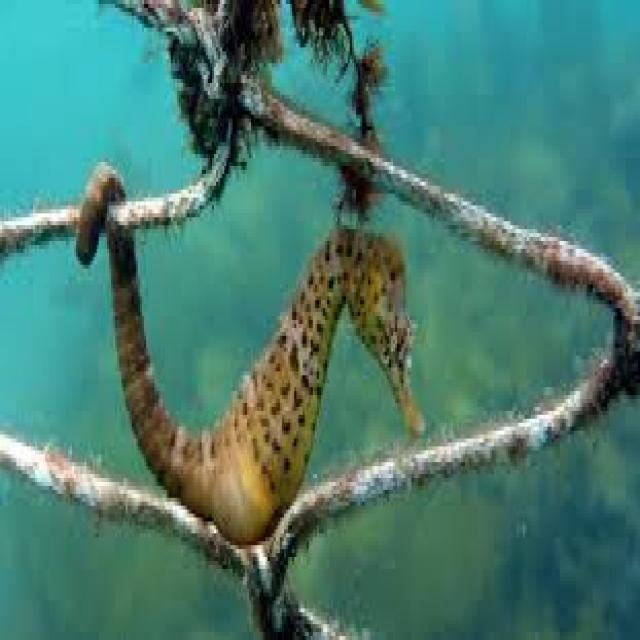SeaHorse: (78, 166, 428, 549)
